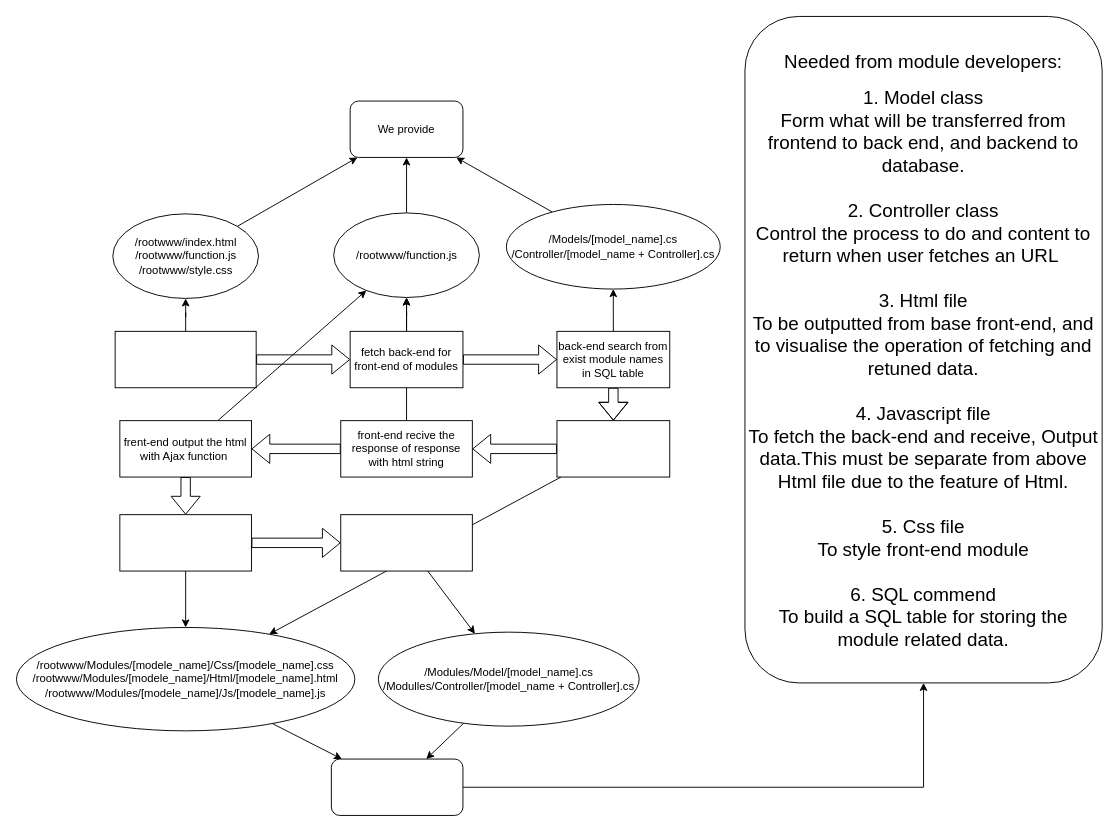
The diagram is 1119 pixels wide and 832 high, and some of its shapes have lost their labels. The centre of each missing label's shape, as x and y in pixels:
back-end return the front end of modules: [613,448]
module related back-end return module contents: [406,542]
new html include methods to access module related back-end: [185,542]
uploaded from user: [396,786]
user access front-end: [185,359]
